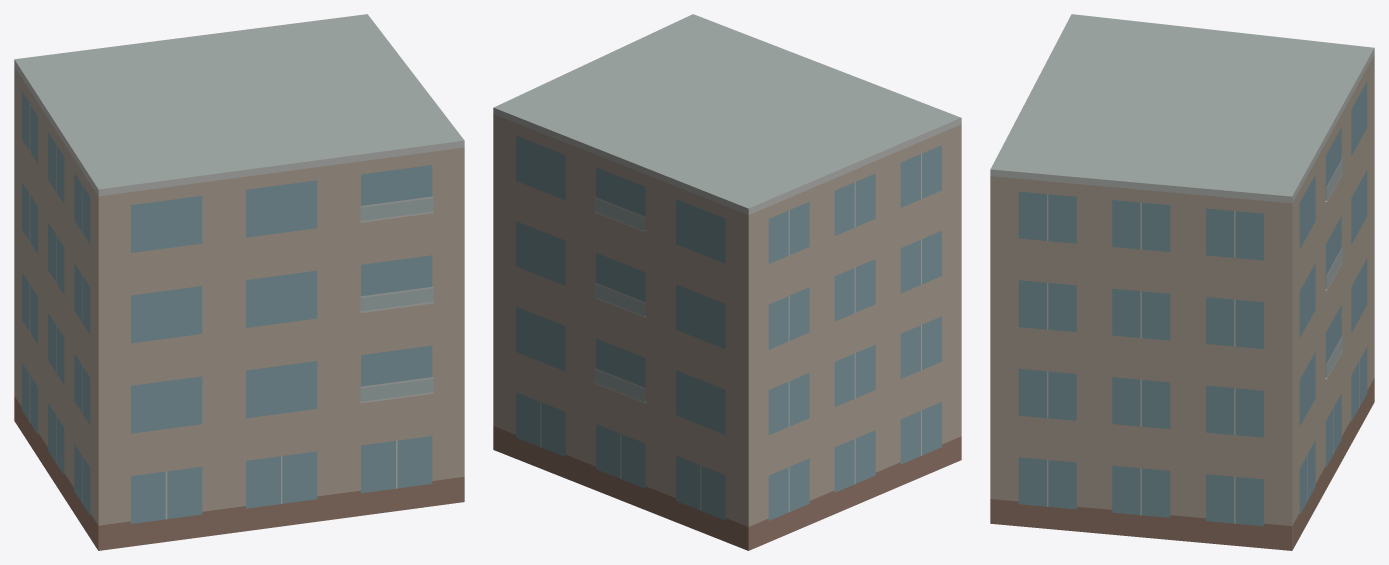
Rendered from survey-upis-32916667.glb.
3 views of the same model, side by side, from view 1: azimuth 30°, elevation 25°; view 2: azimuth 150°, elevation 25°; view 3: azimuth 270°, elevation 25° (orthographic). The views are drawn at different scales.
Visible parts, largest first — view 1: survey-upis-32916667.tmp; view 2: survey-upis-32916667.tmp; view 3: survey-upis-32916667.tmp.
Boxes of the visible parts, left/top/right/bottom form: survey-upis-32916667.tmp: left=14, top=14, right=464, bottom=550; survey-upis-32916667.tmp: left=493, top=14, right=961, bottom=550; survey-upis-32916667.tmp: left=990, top=14, right=1374, bottom=550.
Size of the model in its own units: 14.16 by 12.8 by 12.59.
